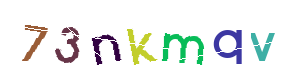3: (65, 0, 145, 80)
7: (14, 0, 94, 80)
K: (106, 0, 186, 80)
M: (142, 0, 222, 80)
N: (94, 0, 174, 80)
Q: (187, 0, 267, 80)
V: (189, 0, 269, 80)
